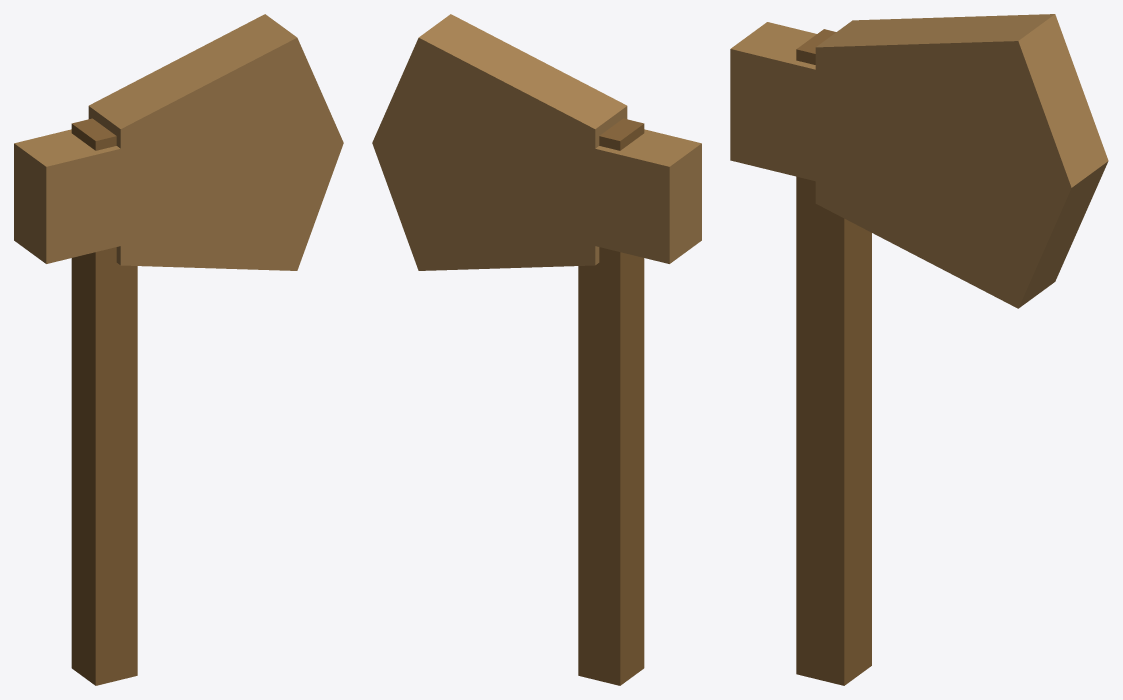
The model's file is axe_wood.fbx.
The picture shows the model from 3 angles, left to right: view 1: azimuth 30°, elevation 25°; view 2: azimuth 150°, elevation 25°; view 3: azimuth 330°, elevation 25°; orthographic projection. The views are drawn at different scales.
Visible parts, largest first — view 1: axe_wood; view 2: axe_wood; view 3: axe_wood.
Part boxes in pixels (bbox=[...]): axe_wood: bbox=[14, 14, 343, 685]; axe_wood: bbox=[372, 14, 701, 685]; axe_wood: bbox=[730, 14, 1108, 685].
Size of the model in its own units: 0.96 by 1.86 by 0.18.
